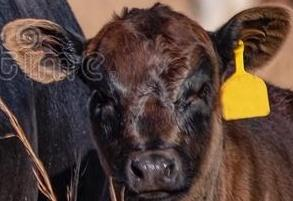muzzles: (125, 154, 189, 200)
